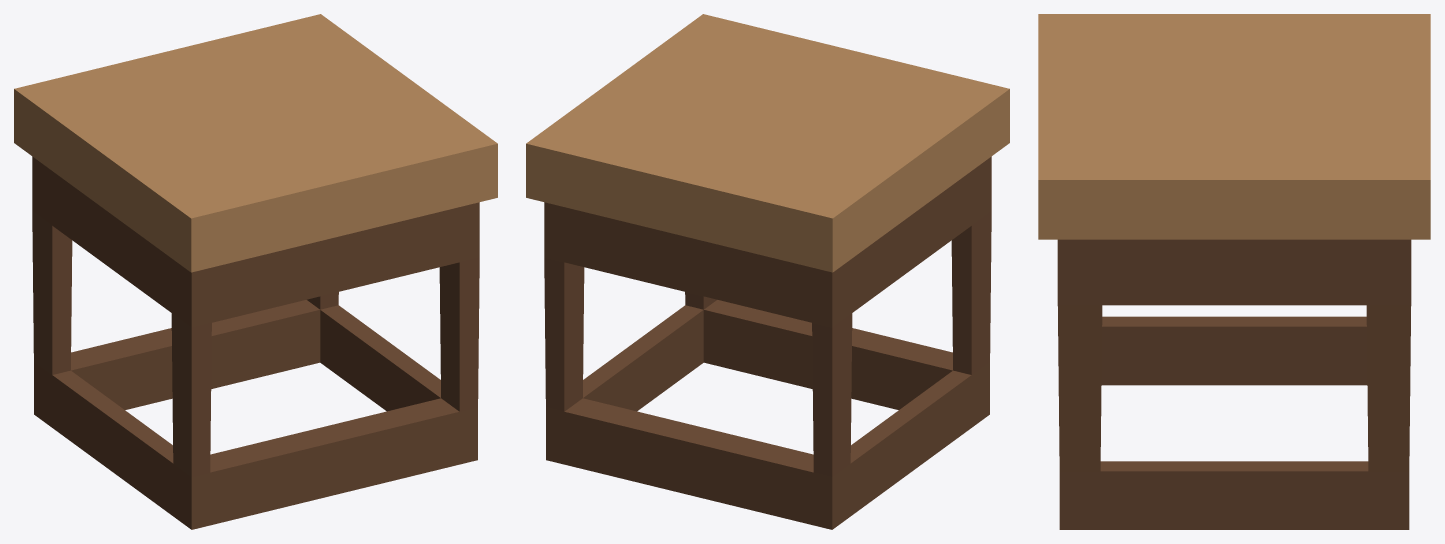
The model's file is qt-coffee-table2.glb.
The picture shows the model from 3 angles, left to right: view 1: azimuth 30°, elevation 25°; view 2: azimuth 150°, elevation 25°; view 3: azimuth 270°, elevation 25°; orthographic projection. The views are drawn at different scales.
Visible parts, largest first — view 1: Coffee_Table_2_Cube.013; view 2: Coffee_Table_2_Cube.013; view 3: Coffee_Table_2_Cube.013.
Part boxes in pixels (x1=…): Coffee_Table_2_Cube.013: x1=14, y1=14, x2=497, y2=529; Coffee_Table_2_Cube.013: x1=526, y1=14, x2=1009, y2=529; Coffee_Table_2_Cube.013: x1=1038, y1=14, x2=1430, y2=529.
Bounding box in the file's own units: 1 × 1 × 1.
